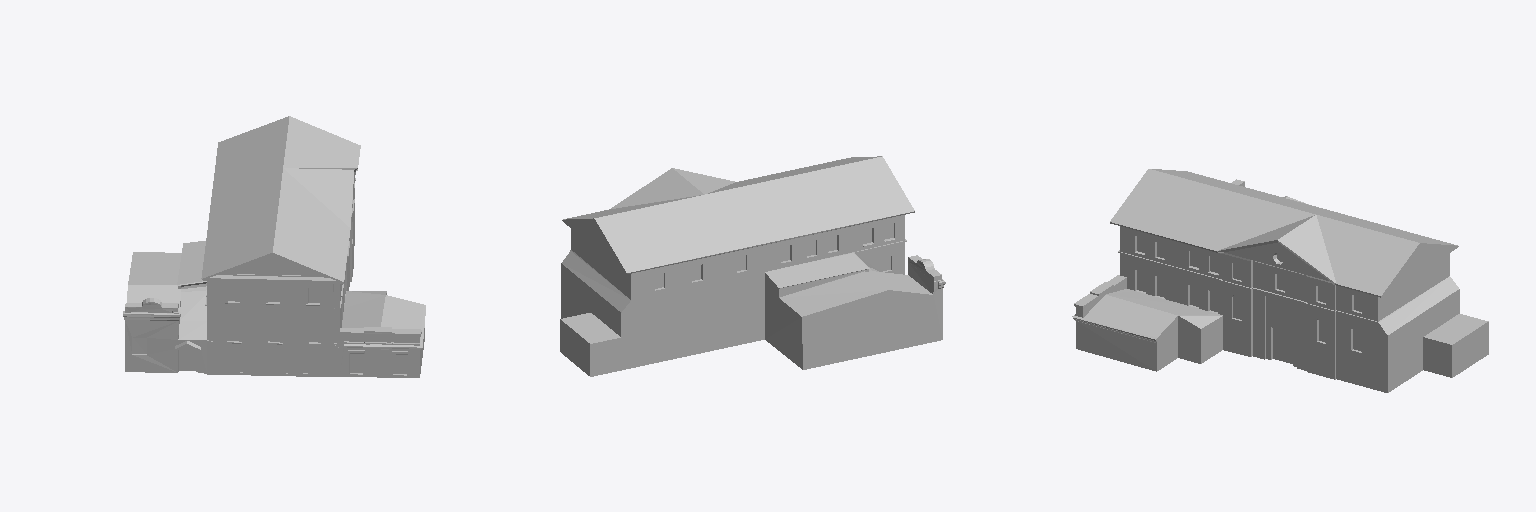
The model's file is city_manor.obj.
3 views of the same model, side by side, from view 1: azimuth 30°, elevation 25°; view 2: azimuth 150°, elevation 25°; view 3: azimuth 270°, elevation 25° (orthographic).
Visible parts, largest first — view 1: city_manor; view 2: city_manor; view 3: city_manor.
Boxes of the visible parts, box(x1,y1,x2,y2) form: city_manor: box(123, 116, 425, 377); city_manor: box(560, 156, 945, 376); city_manor: box(1072, 169, 1488, 392).
Bounding box in the file's own units: 10.56 × 4.13 × 12.27.